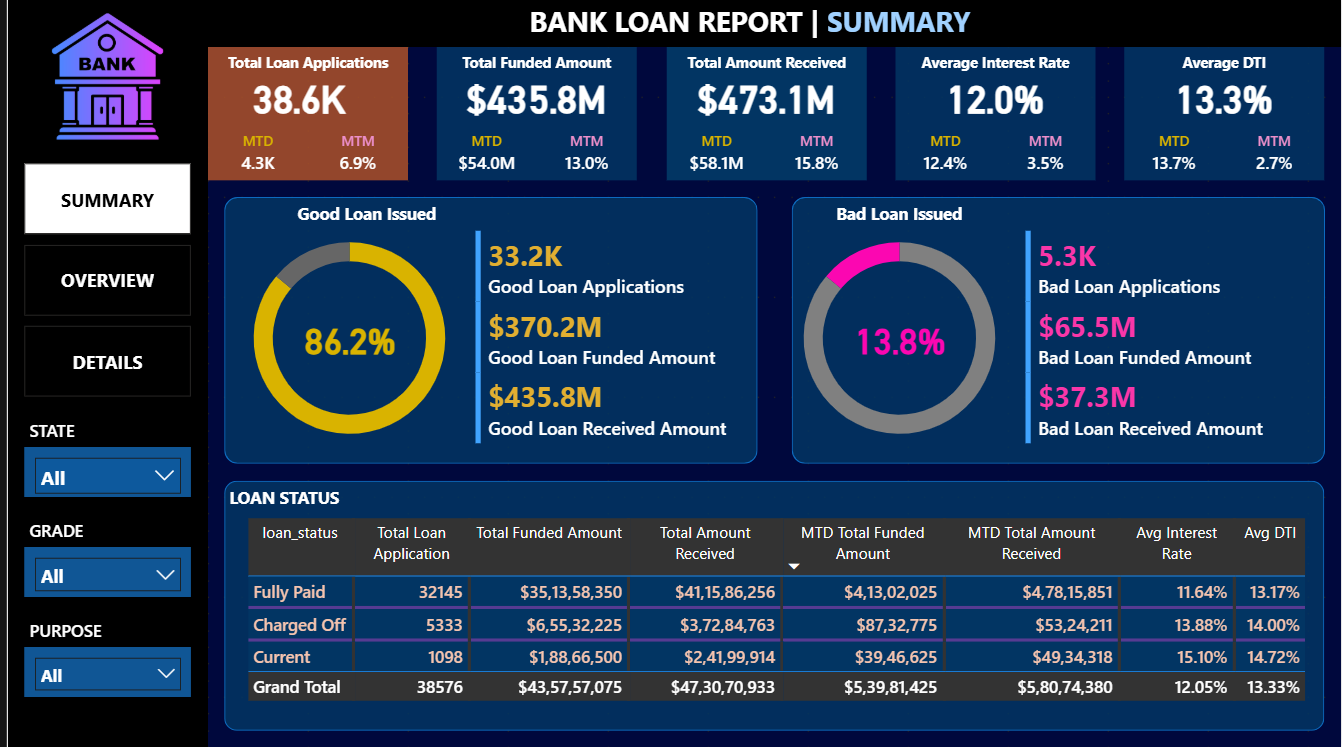

The dashboard page shown, as its layout file describes it:
{"tool":"powerbi","page":{"name":"SUMMARY","canvas":[1280,720],"ordinal":0},"visuals":[{"type":"shape","box":[208,464,1056,240],"z":0},{"type":"shape","box":[208,192,512,256],"z":1000},{"type":"donutChart","fields":{"Category":["financial_domain bank_loan.Good Vs Bad Loan"],"Y":["financial_domain bank_loan.Total Loan Application"]},"box":[192,208,272,240],"z":2000},{"type":"shape","box":[0,0,1280,48],"z":3000},{"type":"shape","box":[192,48,192,128],"z":3000,"group":"g1"},{"type":"shape","box":[412,48,192,128],"z":3000,"group":"g2"},{"type":"shape","box":[632,48,192,128],"z":3000,"group":"g3"},{"type":"shape","box":[852,48,192,128],"z":3000,"group":"g4"},{"type":"shape","box":[1072,48,192,128],"z":3000,"group":"g5"},{"type":"shape","box":[0,0,192,720],"z":4000},{"type":"card","fields":{"Values":["financial_domain bank_loan.Total Loan Application"]},"box":[208,64,144,64],"z":4000,"group":"g1"},{"type":"card","fields":{"Values":["financial_domain bank_loan.Total Funded Amount"]},"box":[428,64,160,64],"z":4000,"group":"g2"},{"type":"card","fields":{"Values":["financial_domain bank_loan.Total Amount Received"]},"box":[648,64,160,64],"z":4000,"group":"g3"},{"type":"card","fields":{"Values":["financial_domain bank_loan.Avg Interest Rate"]},"box":[868,64,160,64],"z":4000,"group":"g4"},{"type":"card","fields":{"Values":["financial_domain bank_loan.Avg DTI"]},"box":[1088,64,160,64],"z":4000,"group":"g5"},{"type":"textbox","box":[496,0,448,48],"z":5000},{"type":"textbox","box":[192,48,192,32],"z":5000,"group":"g1"},{"type":"textbox","box":[412,48,192,32],"z":5000,"group":"g2"},{"type":"textbox","box":[632,48,192,32],"z":5000,"group":"g3"},{"type":"textbox","box":[852,48,192,32],"z":5000,"group":"g4"},{"type":"textbox","box":[1072,48,192,32],"z":5000,"group":"g5"},{"type":"group","id":"g1","title":"Group 1","box":[192,48,192,128],"z":6000},{"type":"card","title":"MTD","fields":{"Values":["financial_domain bank_loan.MTD Loan Application"]},"box":[192,128,96,48],"z":6000,"group":"g1"},{"type":"card","title":"MTD","fields":{"Values":["financial_domain bank_loan.MTD Total Funded Amount"]},"box":[412,128,96,48],"z":6000,"group":"g2"},{"type":"card","title":"MTD","fields":{"Values":["financial_domain bank_loan.MTD Total Amount Received"]},"box":[632,128,96,48],"z":6000,"group":"g3"},{"type":"card","title":"MTD","fields":{"Values":["financial_domain bank_loan.MTD Avg interest rate"]},"box":[852,128,96,48],"z":6000,"group":"g4"},{"type":"card","title":"MTD","fields":{"Values":["financial_domain bank_loan.MTD Avg DTI"]},"box":[1072,128,96,48],"z":6000,"group":"g5"},{"type":"card","title":"MTM","fields":{"Values":["financial_domain bank_loan.MTM Loan Application"]},"box":[288,128,96,48],"z":7000,"group":"g1"},{"type":"card","title":"MTM","fields":{"Values":["financial_domain bank_loan.MTM Funded Amount"]},"box":[508,128,96,48],"z":7000,"group":"g2"},{"type":"card","title":"MTM","fields":{"Values":["financial_domain bank_loan.MTM Total Amount Received"]},"box":[728,128,96,48],"z":7000,"group":"g3"},{"type":"card","title":"MTM","fields":{"Values":["financial_domain bank_loan.MTM Avg Int Rate"]},"box":[948,128,96,48],"z":7000,"group":"g4"},{"type":"card","title":"MTM","fields":{"Values":["financial_domain bank_loan.MTM Avg DTI"]},"box":[1168,128,96,48],"z":7000,"group":"g5"},{"type":"textbox","box":[224,192,240,32],"z":7000},{"type":"group","id":"g2","title":"Group 1","box":[412,48,192,128],"z":8000},{"type":"group","id":"g3","title":"Group 1","box":[632,48,192,128],"z":9000},{"type":"card","fields":{"Values":["financial_domain bank_loan.Good Loan %"]},"box":[272,288,112,80],"z":10000},{"type":"group","id":"g4","title":"Group 1","box":[852,48,192,128],"z":11000},{"type":"group","id":"g5","title":"Group 1","box":[1072,48,192,128],"z":12000},{"type":"shape","box":[752,192,512,256],"z":13000},{"type":"cardVisual","fields":{"Data":["financial_domain bank_loan.Good Loan Applications","financial_domain bank_loan.Good Loan Funded Amount","financial_domain bank_loan.Good Loan Received Amount"]},"box":[432,208,304,240],"z":14000},{"type":"donutChart","fields":{"Category":["financial_domain bank_loan.Good Vs Bad Loan"],"Y":["financial_domain bank_loan.Total Loan Application"]},"box":[720,208,272,240],"z":15000},{"type":"textbox","box":[736,192,240,48],"z":16000},{"type":"card","fields":{"Values":["financial_domain bank_loan.Bad Loan %"]},"box":[800,288,112,80],"z":17000},{"type":"cardVisual","fields":{"Data":["financial_domain bank_loan.Bad Loan Applications","financial_domain bank_loan.Bad Loan Funded Amount","financial_domain bank_loan.Bad Loan Received Amount"]},"box":[960,208,304,240],"z":18000},{"type":"tableEx","fields":{"Values":["financial_domain bank_loan.loan_status","financial_domain bank_loan.Total Loan Application","financial_domain bank_loan.Total Funded Amount","financial_domain bank_loan.Total Amount Received","financial_domain bank_loan.MTD Total Funded Amount","financial_domain bank_loan.MTD Total Amount Received","financial_domain bank_loan.Avg Interest Rate","financial_domain bank_loan.Avg DTI"]},"box":[224,496,1040,192],"z":19000},{"type":"textbox","box":[208,464,240,48],"z":20000},{"type":"slicer","fields":{"Values":["financial_domain bank_loan.address_state"]},"box":[16,432,160,48],"z":21000},{"type":"slicer","fields":{"Values":["financial_domain bank_loan.grade"]},"box":[16,528,160,48],"z":22000},{"type":"slicer","fields":{"Values":["financial_domain bank_loan.purpose"]},"box":[16,624,160,48],"z":23000},{"type":"textbox","box":[16,400,160,32],"z":24000},{"type":"textbox","box":[16,496,128,32],"z":25000},{"type":"textbox","box":[16,592,128,32],"z":26000},{"type":"pageNavigator","box":[16,160,160,224],"z":27000},{"type":"image","box":[16,0,160,144],"z":27001}]}

Visuals, with their boxes in screenshot pixels (x1, y1, x2, y2), scaled from the page's 1280x720 canvas onto the 1342x747 screenshot:
shape: [218, 481, 1325, 730]
shape: [218, 199, 755, 465]
donutChart - financial_domain bank_loan.Good Vs Bad Loan x financial_domain bank_loan.Total Loan Application: [201, 216, 486, 465]
shape: [0, 0, 1341, 50]
shape: [201, 50, 403, 183]
shape: [432, 50, 633, 183]
shape: [663, 50, 864, 183]
shape: [893, 50, 1095, 183]
shape: [1124, 50, 1325, 183]
shape: [0, 0, 201, 746]
card - financial_domain bank_loan.Total Loan Application: [218, 66, 369, 133]
card - financial_domain bank_loan.Total Funded Amount: [449, 66, 616, 133]
card - financial_domain bank_loan.Total Amount Received: [679, 66, 847, 133]
card - financial_domain bank_loan.Avg Interest Rate: [910, 66, 1078, 133]
card - financial_domain bank_loan.Avg DTI: [1141, 66, 1308, 133]
textbox: [520, 0, 990, 50]
textbox: [201, 50, 403, 83]
textbox: [432, 50, 633, 83]
textbox: [663, 50, 864, 83]
textbox: [893, 50, 1095, 83]
textbox: [1124, 50, 1325, 83]
"Group 1" group: [201, 50, 403, 183]
"MTD" card: [201, 133, 302, 183]
"MTD" card: [432, 133, 533, 183]
"MTD" card: [663, 133, 763, 183]
"MTD" card: [893, 133, 994, 183]
"MTD" card: [1124, 133, 1225, 183]
"MTM" card: [302, 133, 403, 183]
"MTM" card: [533, 133, 633, 183]
"MTM" card: [763, 133, 864, 183]
"MTM" card: [994, 133, 1095, 183]
"MTM" card: [1225, 133, 1325, 183]
textbox: [235, 199, 486, 232]
"Group 1" group: [432, 50, 633, 183]
"Group 1" group: [663, 50, 864, 183]
card - financial_domain bank_loan.Good Loan %: [285, 299, 403, 382]
"Group 1" group: [893, 50, 1095, 183]
"Group 1" group: [1124, 50, 1325, 183]
shape: [788, 199, 1325, 465]
cardVisual - financial_domain bank_loan.Good Loan Applications x financial_domain bank_loan.Good Loan Funded Amount: [453, 216, 772, 465]
donutChart - financial_domain bank_loan.Good Vs Bad Loan x financial_domain bank_loan.Total Loan Application: [755, 216, 1040, 465]
textbox: [772, 199, 1023, 249]
card - financial_domain bank_loan.Bad Loan %: [839, 299, 956, 382]
cardVisual - financial_domain bank_loan.Bad Loan Applications x financial_domain bank_loan.Bad Loan Funded Amount: [1006, 216, 1325, 465]
tableEx - financial_domain bank_loan.loan_status x financial_domain bank_loan.Total Loan Application: [235, 515, 1325, 714]
textbox: [218, 481, 470, 531]
slicer - financial_domain bank_loan.address_state: [17, 448, 185, 498]
slicer - financial_domain bank_loan.grade: [17, 548, 185, 598]
slicer - financial_domain bank_loan.purpose: [17, 647, 185, 697]
textbox: [17, 415, 185, 448]
textbox: [17, 515, 151, 548]
textbox: [17, 614, 151, 647]
pageNavigator: [17, 166, 185, 398]
image: [17, 0, 185, 149]
